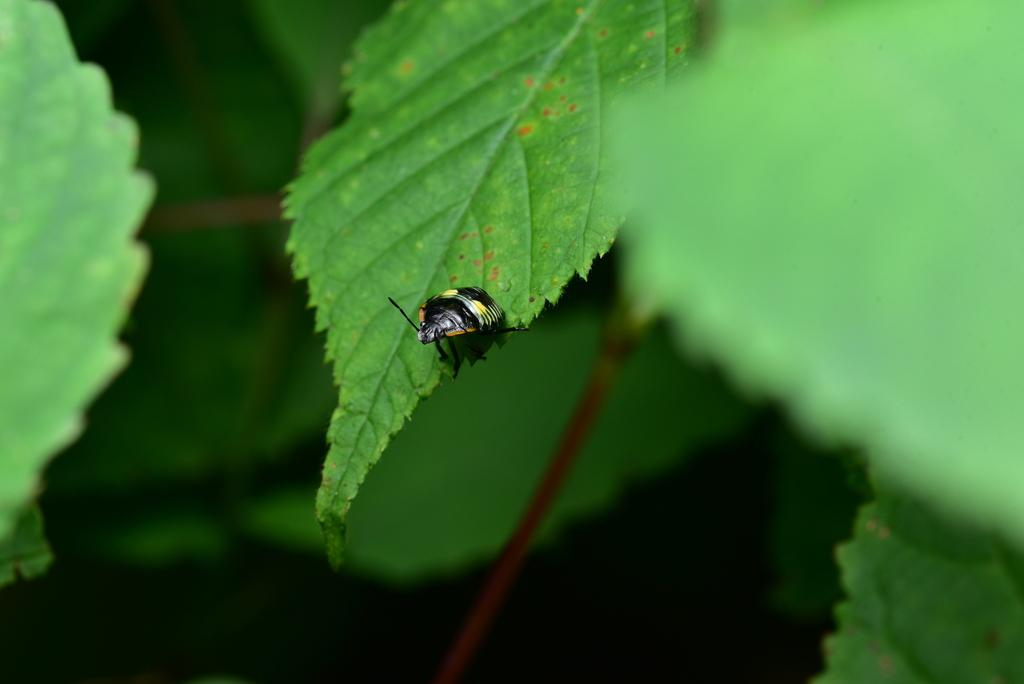stink_bugs: (361, 227, 546, 400)
